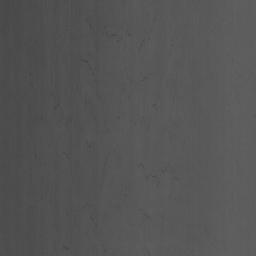Silk spot: (146, 164, 169, 187), (103, 26, 131, 42), (80, 54, 96, 75)
